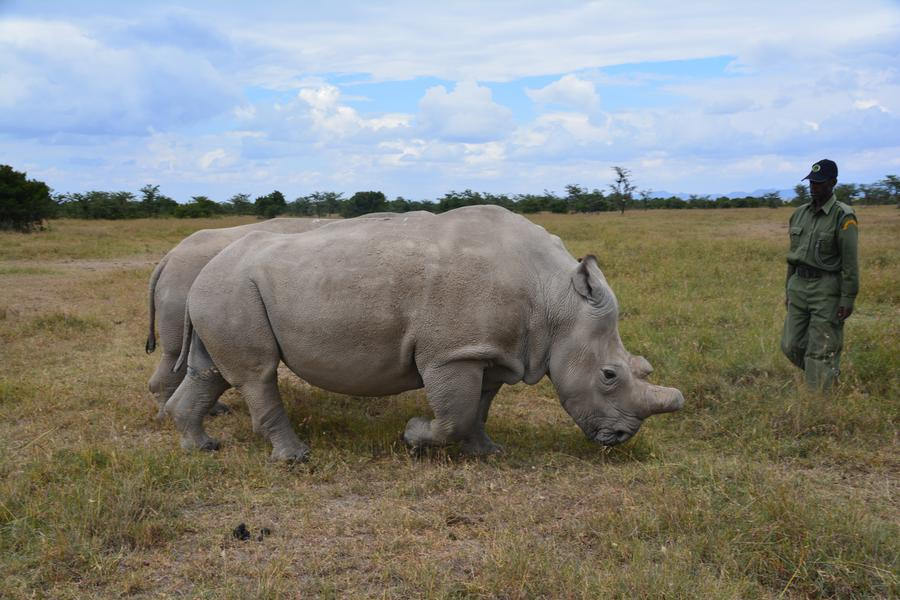rhino: (203, 237, 639, 456), (141, 233, 209, 361)
